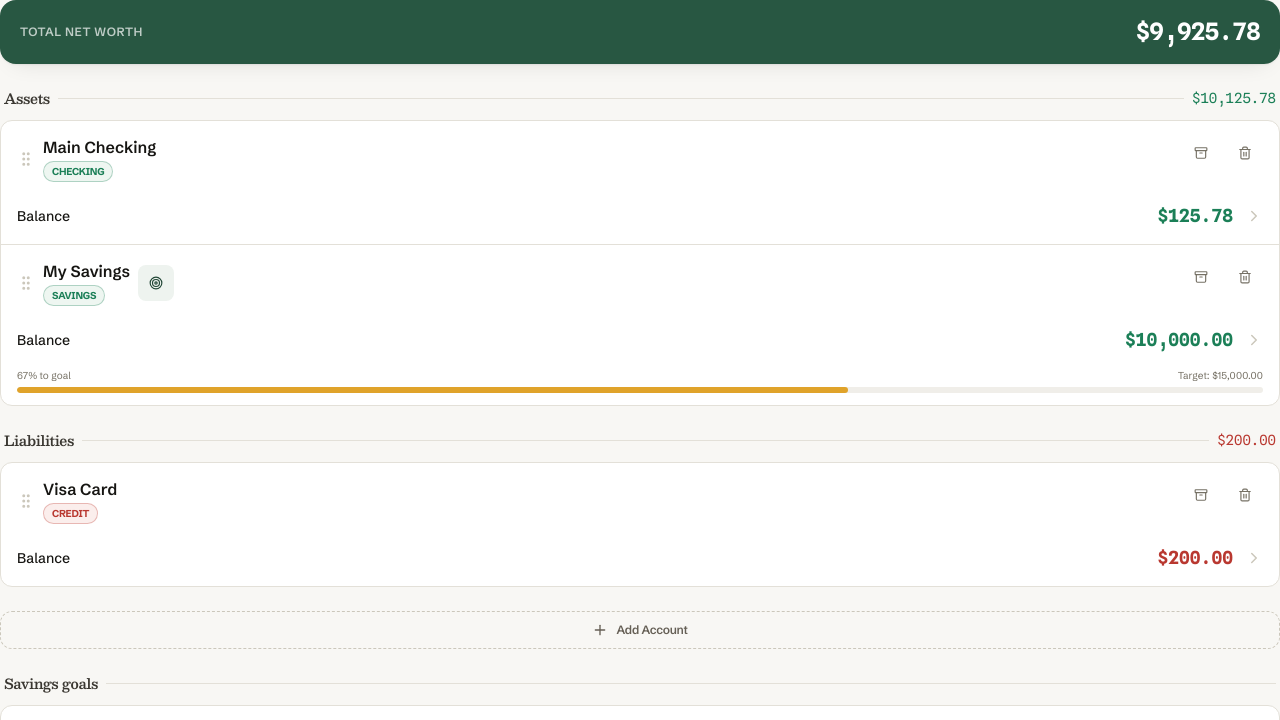
it: BudgetAccounts › seeds the edit input with a float-drift balance rounded to 2 decimals
Step 1. Click the button named "Balance for Main Checking" → click(104, 215), box [1,188,1279,244]
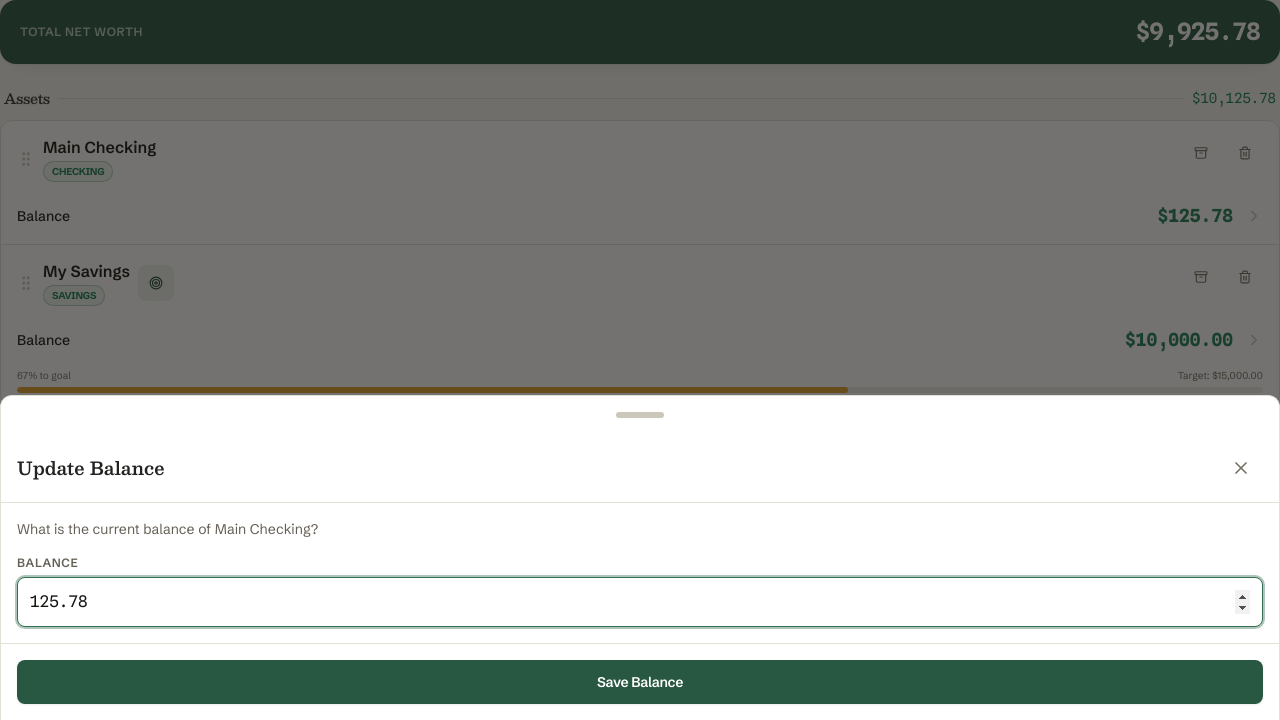
Check: the number field holds "125.78", box [17,577,1263,627]
